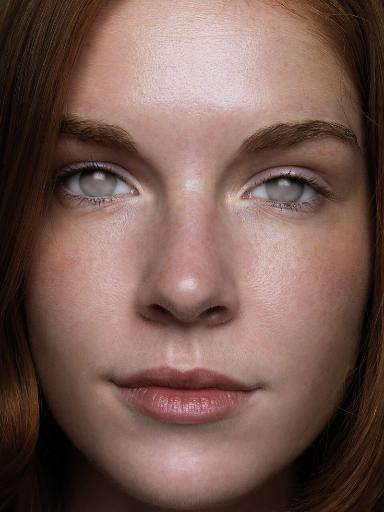left_eye: (239, 171, 334, 219)
left_lip_corner: (246, 376, 270, 400)
right_eye: (55, 166, 141, 210)
right_lip_corner: (100, 371, 128, 398)
